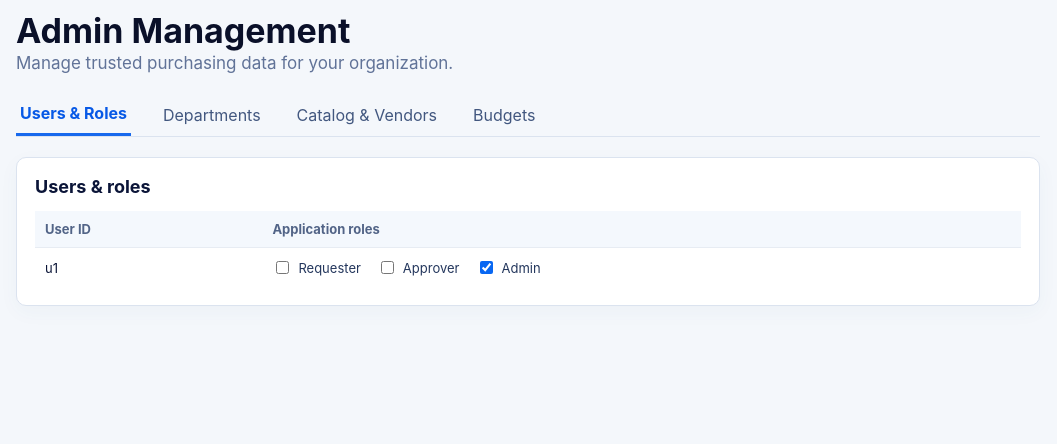
Scenario: AdminManagement › shows actionable mutation failures
Expected: the heading "Users & roles" is shown, top-left (35, 176), bottom-right (151, 197)
Click the tab "Departments": (212, 115) top-left (159, 93), bottom-right (265, 136)
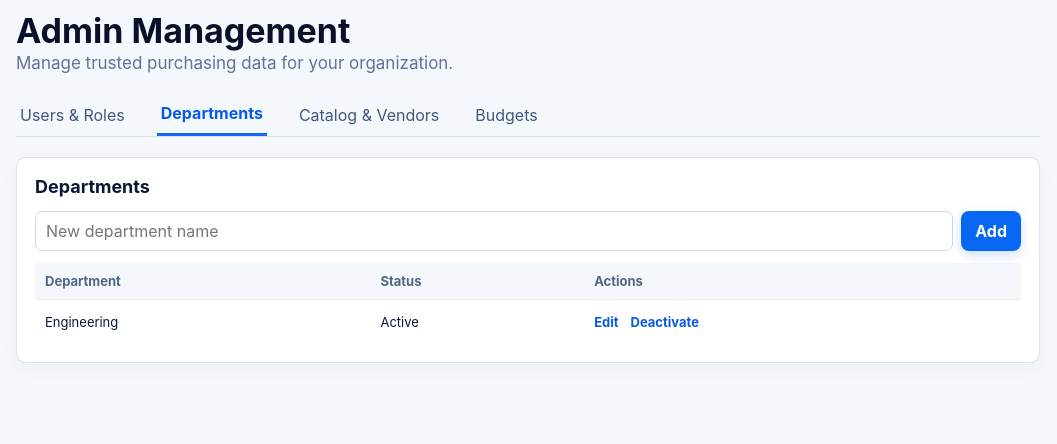
In the field labelled "New department": (494, 231) top-left (35, 211), bottom-right (953, 251), type "Finance"
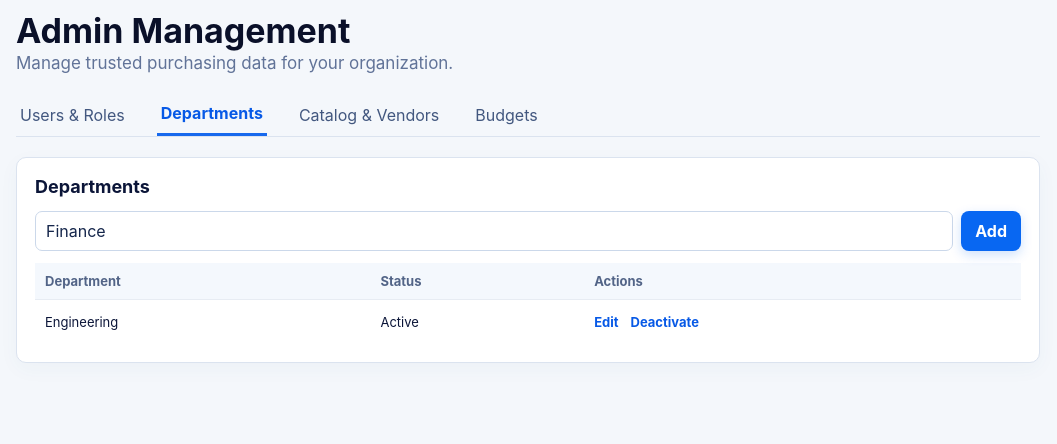
Click the button "Add": (991, 231) top-left (961, 211), bottom-right (1021, 251)
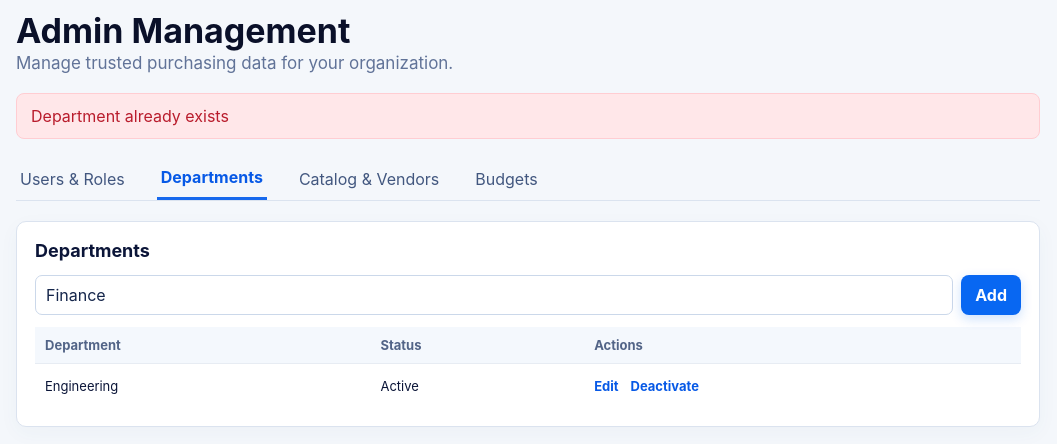
Expected: the message reads "Department already exists", top-left (31, 106), bottom-right (229, 126)
